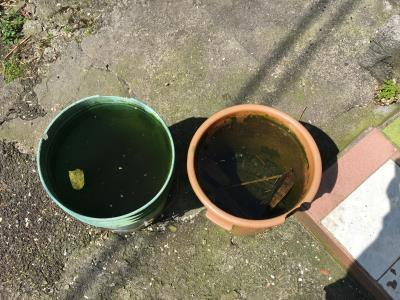bucket: (34, 93, 179, 236), (184, 101, 327, 237)
